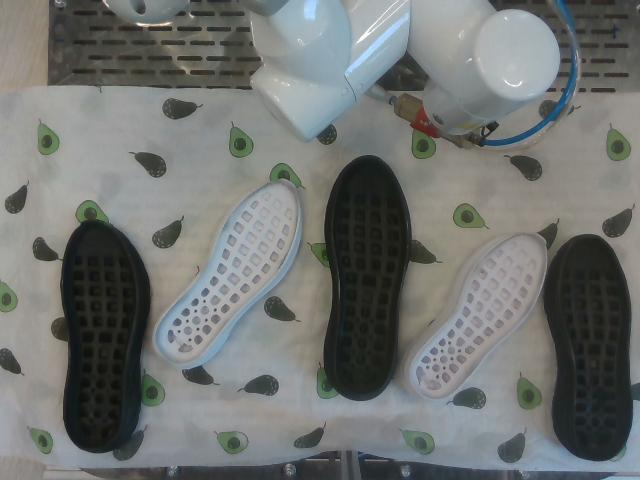shoes: (155, 179, 299, 364), (411, 233, 547, 399), (335, 158, 407, 394), (63, 220, 137, 448), (560, 236, 632, 459)
